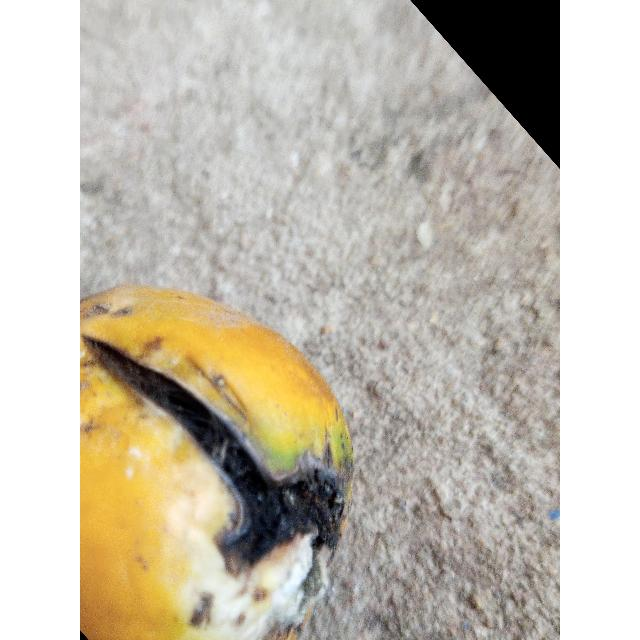damaged: (80, 286, 353, 640)
